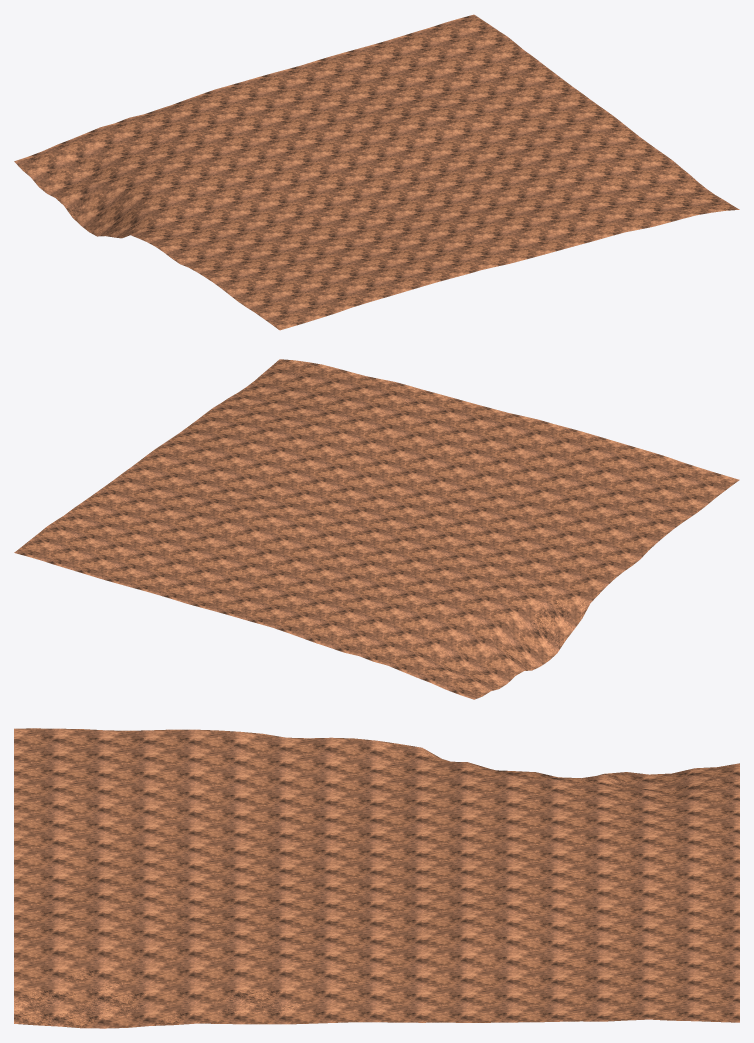
The model's file is terrain_03_20.dae.
3 views of the same model, one above another, from view 1: azimuth 30°, elevation 25°; view 2: azimuth 150°, elevation 25°; view 3: azimuth 270°, elevation 25° (orthographic). The views are drawn at different scales.
Visible parts, largest first — view 1: terrain_03_20-node; view 2: terrain_03_20-node; view 3: terrain_03_20-node.
Part boxes in pixels (x1=…): terrain_03_20-node: x1=14, y1=14, x2=739, y2=330; terrain_03_20-node: x1=14, y1=359, x2=739, y2=699; terrain_03_20-node: x1=14, y1=728, x2=739, y2=1028.
Bounding box in the file's own units: 128 × 128 × 14.87.
1 material, 1 textured.
